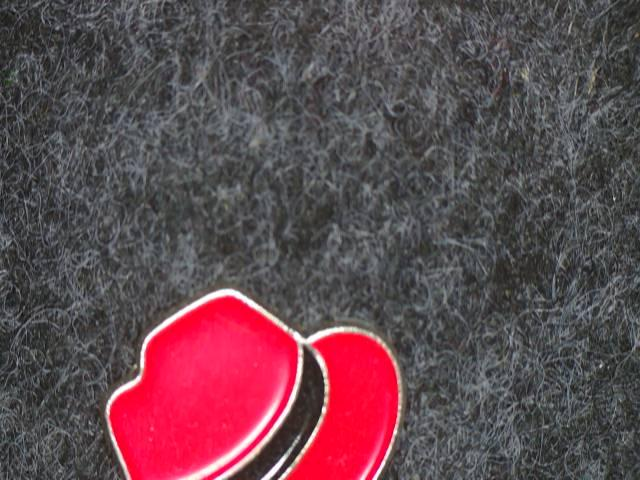Red-Hat: (58, 271, 454, 480)
